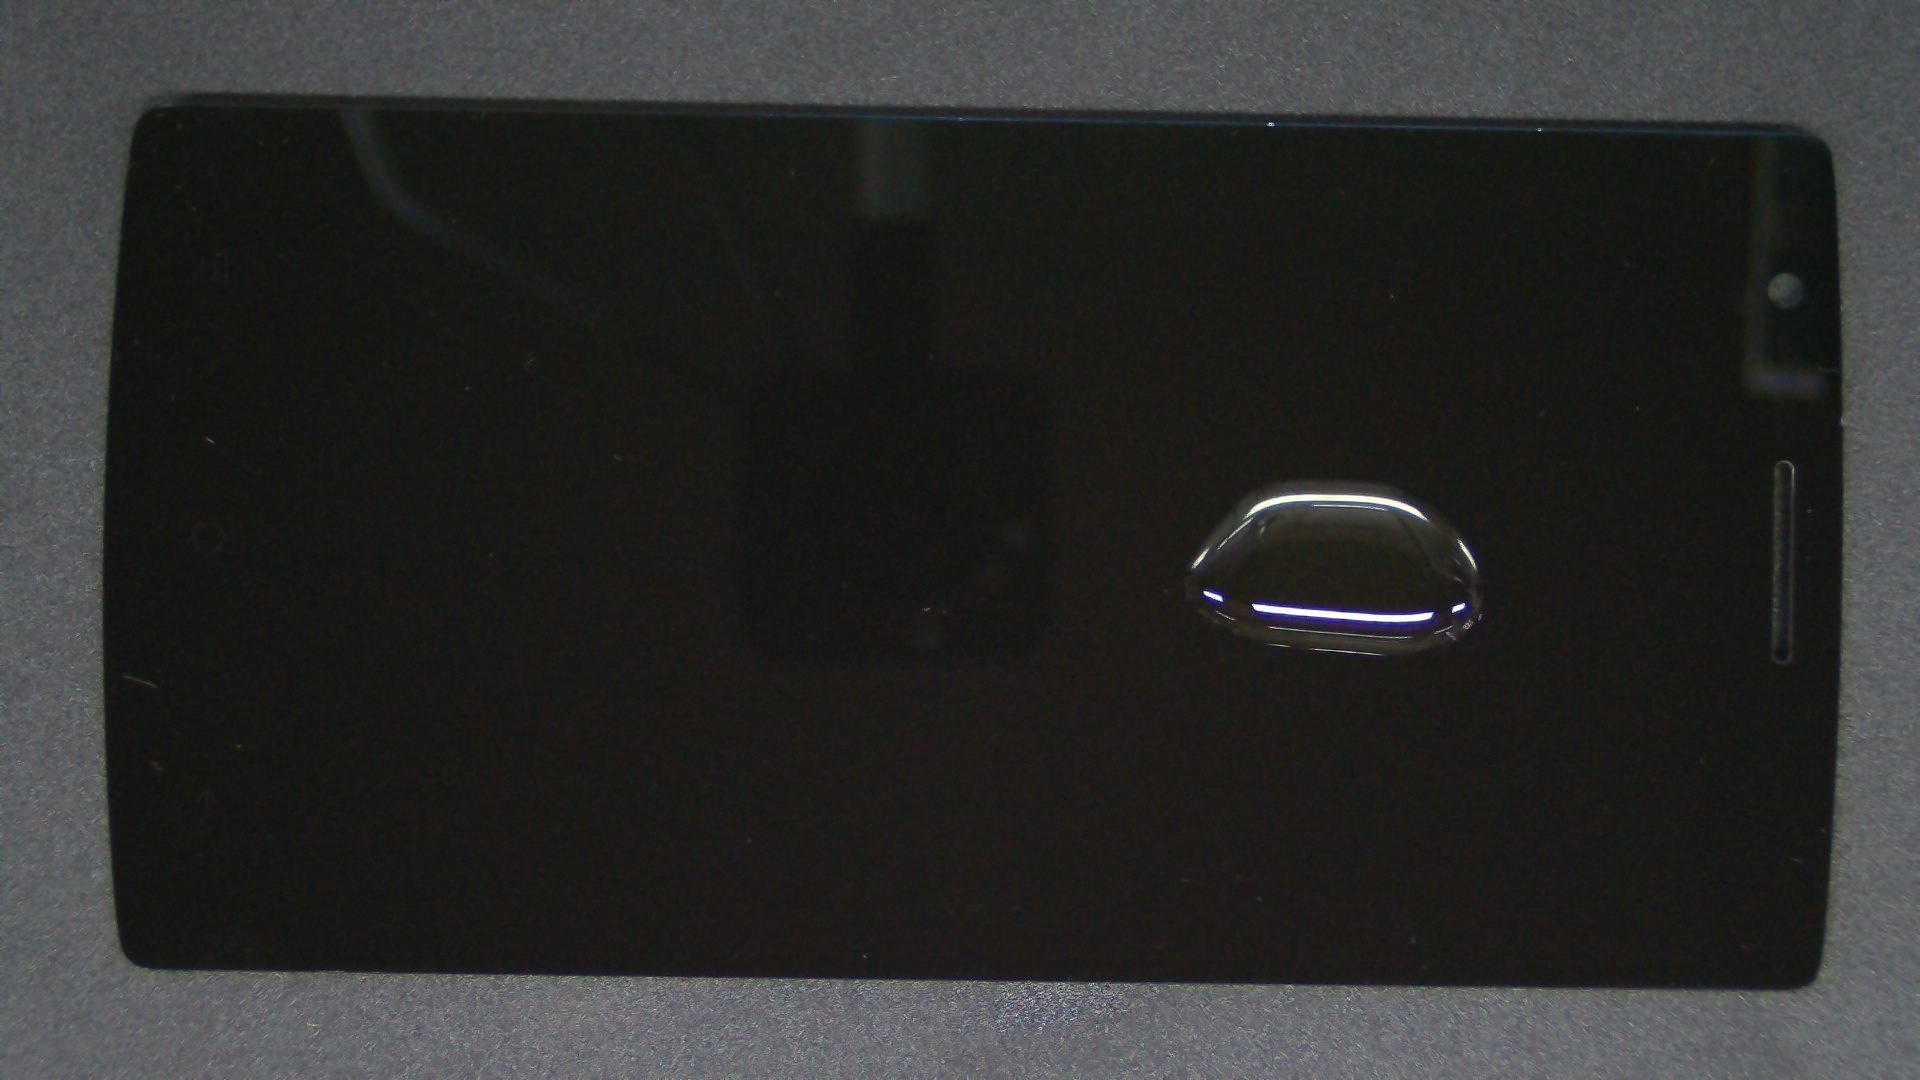oil: (637, 240, 1911, 720)
